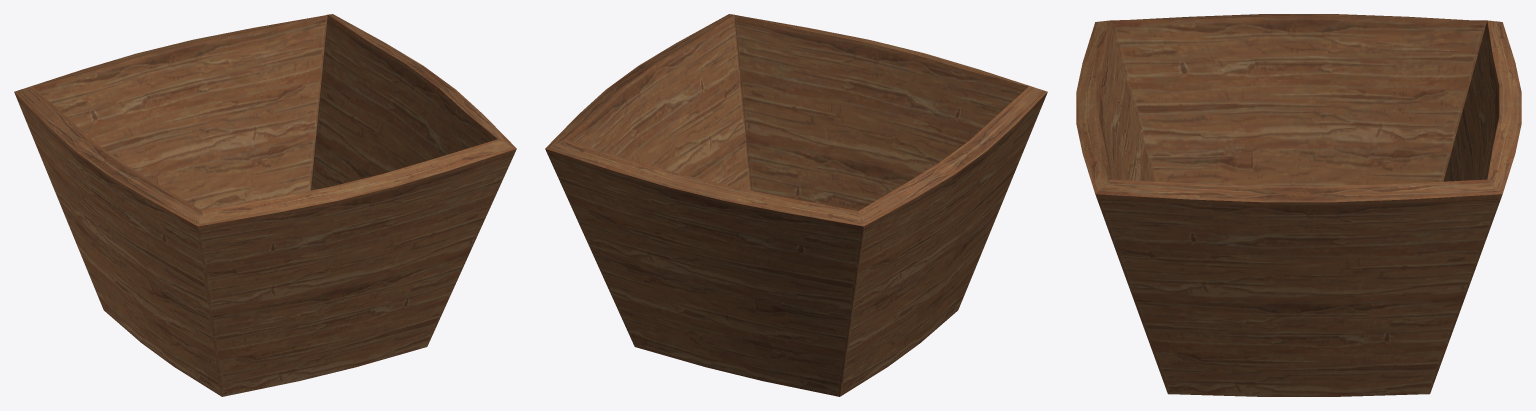
The model's file is SM_Farm_FoodContainer_01.fbx.
The picture shows the model from 3 angles, left to right: view 1: azimuth 30°, elevation 25°; view 2: azimuth 150°, elevation 25°; view 3: azimuth 270°, elevation 25°; orthographic projection. The views are drawn at different scales.
Visible parts, largest first — view 1: SM_Farm_FoodContainer_01_LOD0; view 2: SM_Farm_FoodContainer_01_LOD0; view 3: SM_Farm_FoodContainer_01_LOD0.
Boxes of the visible parts, <box> form: SM_Farm_FoodContainer_01_LOD0: <box>14,14,516,396</box>; SM_Farm_FoodContainer_01_LOD0: <box>545,14,1047,396</box>; SM_Farm_FoodContainer_01_LOD0: <box>1076,14,1521,396</box>.
Bounding box in the file's own units: 56.68 × 33.51 × 56.68.
